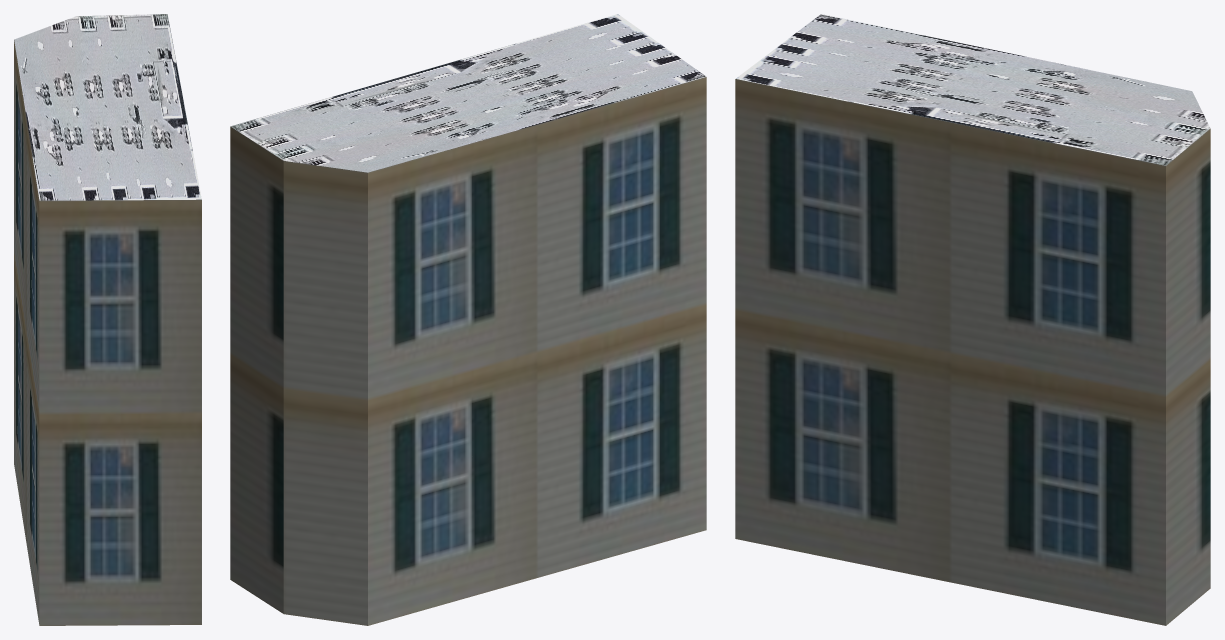
File: ResTex__1014.fbx
3 renders of one model, left to right at view 1: azimuth 30°, elevation 25°; view 2: azimuth 150°, elevation 25°; view 3: azimuth 270°, elevation 25°, orthographic. The views are drawn at different scales.
Parts seen in each view (by area): view 1: CityEngineMaterial_7_m, CityEngineMaterial_4_m; view 2: CityEngineMaterial_7_m, CityEngineMaterial_4_m; view 3: CityEngineMaterial_7_m, CityEngineMaterial_4_m.
Boxes of the visible parts, left/top/right/bottom form: CityEngineMaterial_7_m: left=14, top=40, right=201, bottom=625; CityEngineMaterial_4_m: left=14, top=14, right=201, bottom=200; CityEngineMaterial_7_m: left=230, top=77, right=706, bottom=625; CityEngineMaterial_4_m: left=230, top=14, right=706, bottom=172; CityEngineMaterial_7_m: left=735, top=79, right=1210, bottom=625; CityEngineMaterial_4_m: left=736, top=14, right=1210, bottom=165.
Bounding box in the file's own units: 4.25 × 6 × 5.61.
2 materials, 2 textured.
